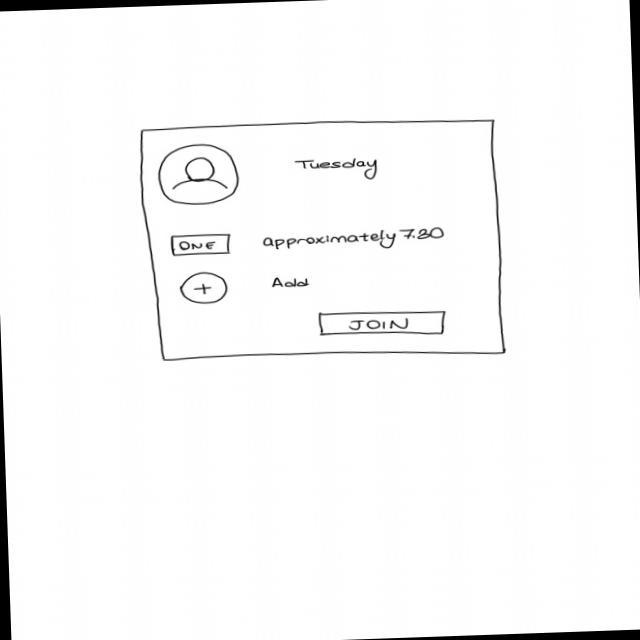button: (317, 308, 447, 340), (171, 233, 233, 258)
icon-button: (179, 272, 229, 306)
label: (262, 226, 447, 254), (294, 156, 381, 184), (270, 276, 312, 291)
